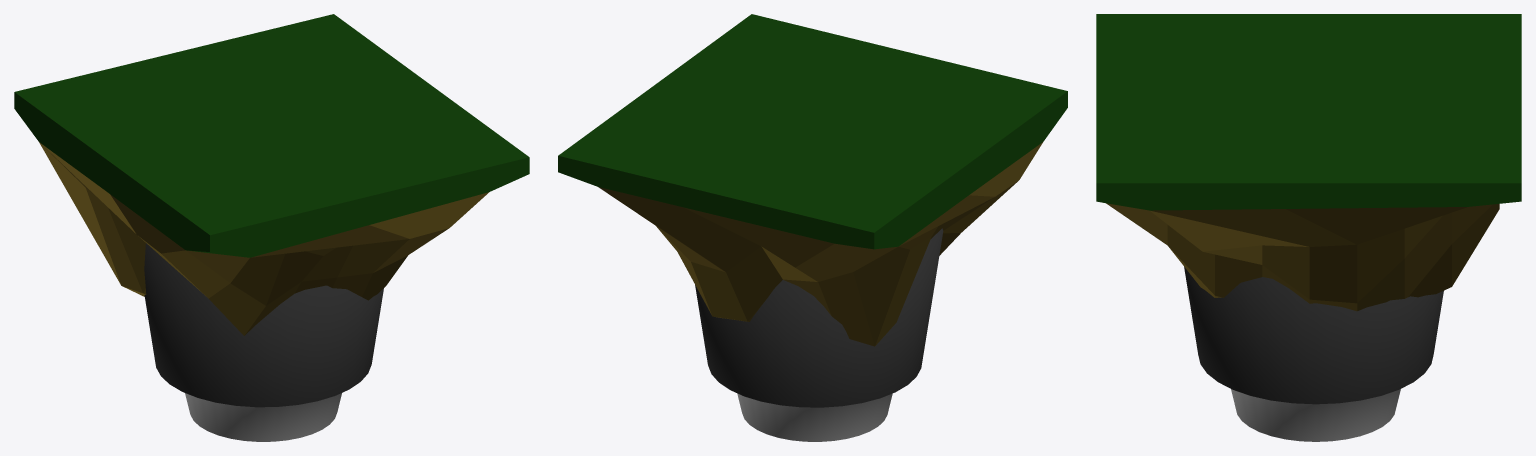
Rendered from Island10.fbx.
3 views of the same model, side by side, from view 1: azimuth 30°, elevation 25°; view 2: azimuth 150°, elevation 25°; view 3: azimuth 270°, elevation 25° (orthographic). The views are drawn at different scales.
Parts seen in each view (by area): view 1: Island10; view 2: Island10; view 3: Island10.
Boxes of the visible parts, x1=… form: Island10: x1=14, y1=14, x2=529, y2=441; Island10: x1=558, y1=14, x2=1067, y2=441; Island10: x1=1096, y1=14, x2=1521, y2=441.
Size of the model in its own units: 4068 by 3494 by 4316.
